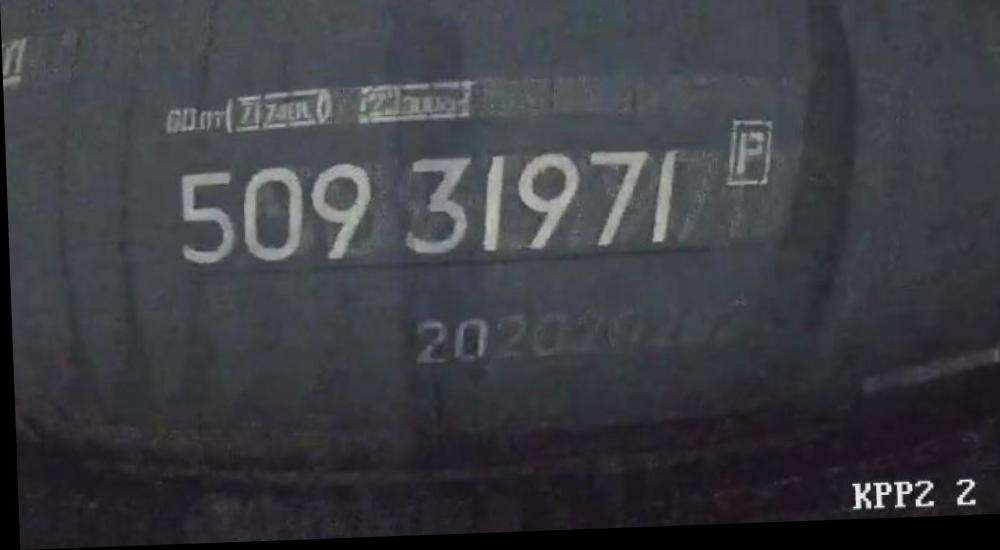Wagon-number: (172, 148, 689, 272)
